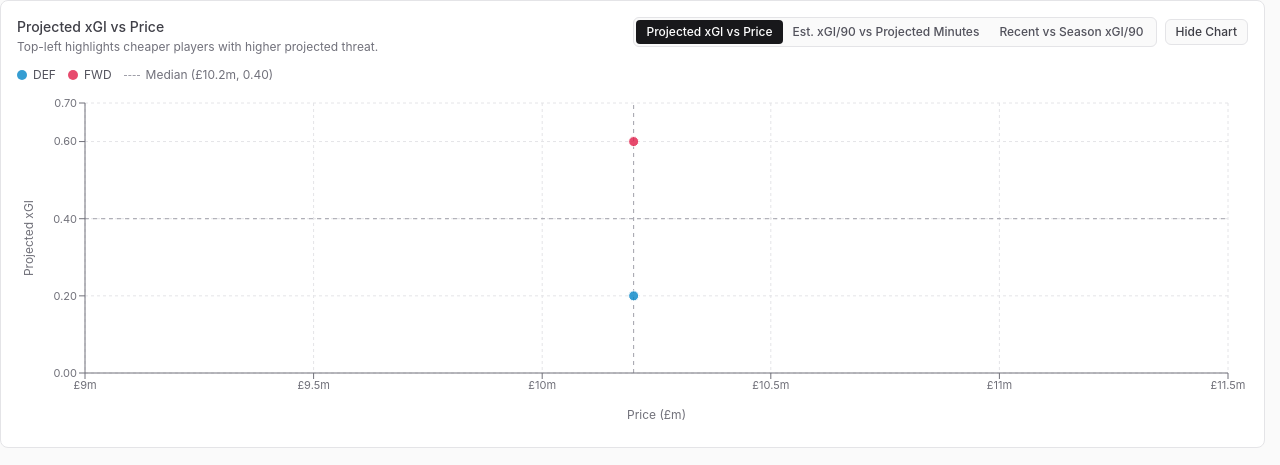
Test case: filters out players with null or non-finite values for the active mode
Expected: the text "MID" is not shown
Expected: the text "DEF" is shown, [17,67,56,83]
Step 1. Click the button "Est. xGI/90 vs Projected Minutes" → x=886, y=32, box [783,20,989,44]
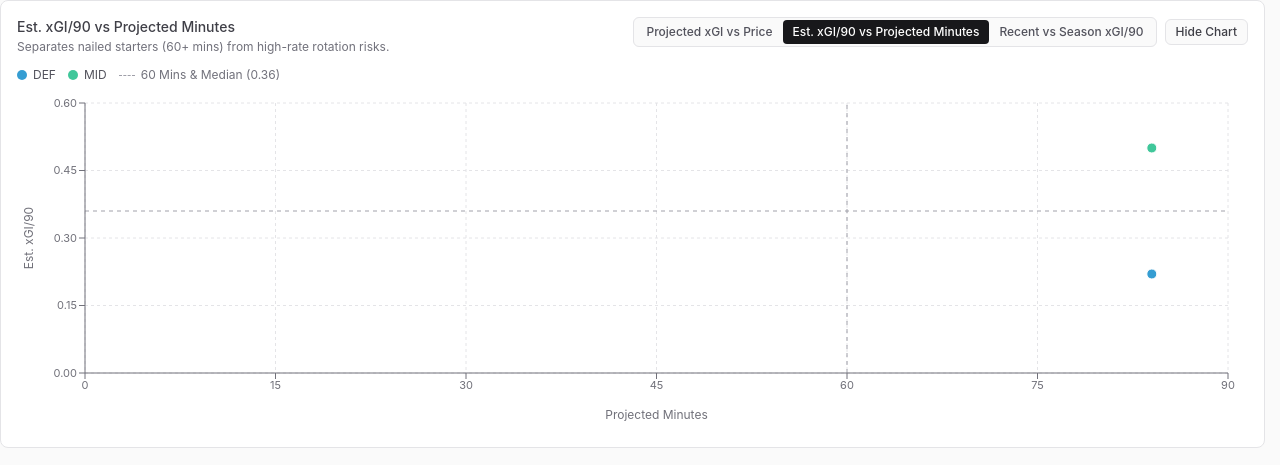
Expected: the text "DEF" is shown, [17,67,56,83]
Expected: the text "MID" is shown, [68,67,107,83]
Expected: the text "FWD" is gone
Step 2. Click the button "Recent vs Season xGI/90" → x=1072, y=32, box [989,20,1154,44]
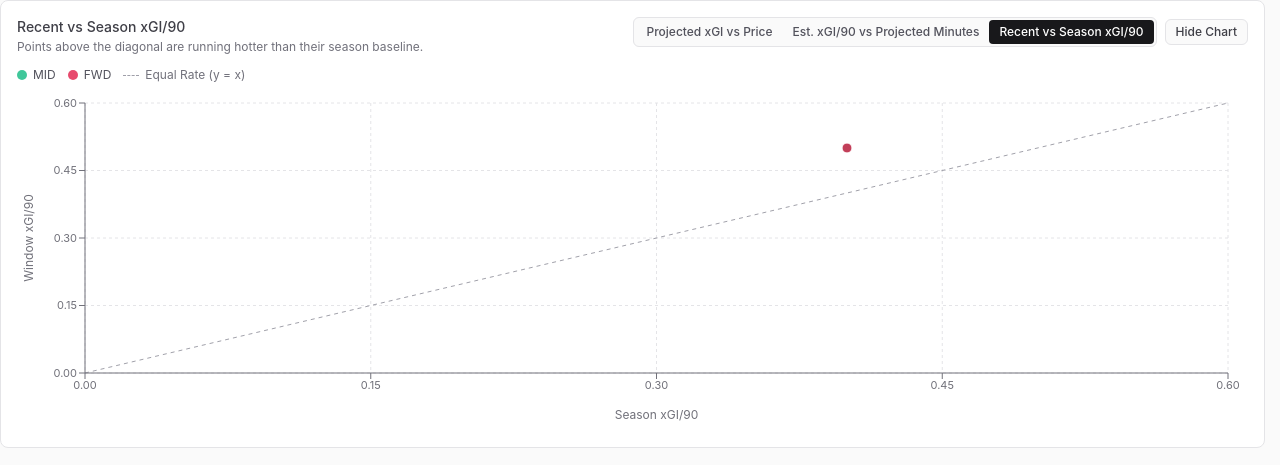
Expected: the text "MID" is shown, [17,67,56,83]
Expected: the text "FWD" is shown, [68,67,111,83]
Expected: the text "DEF" is gone
